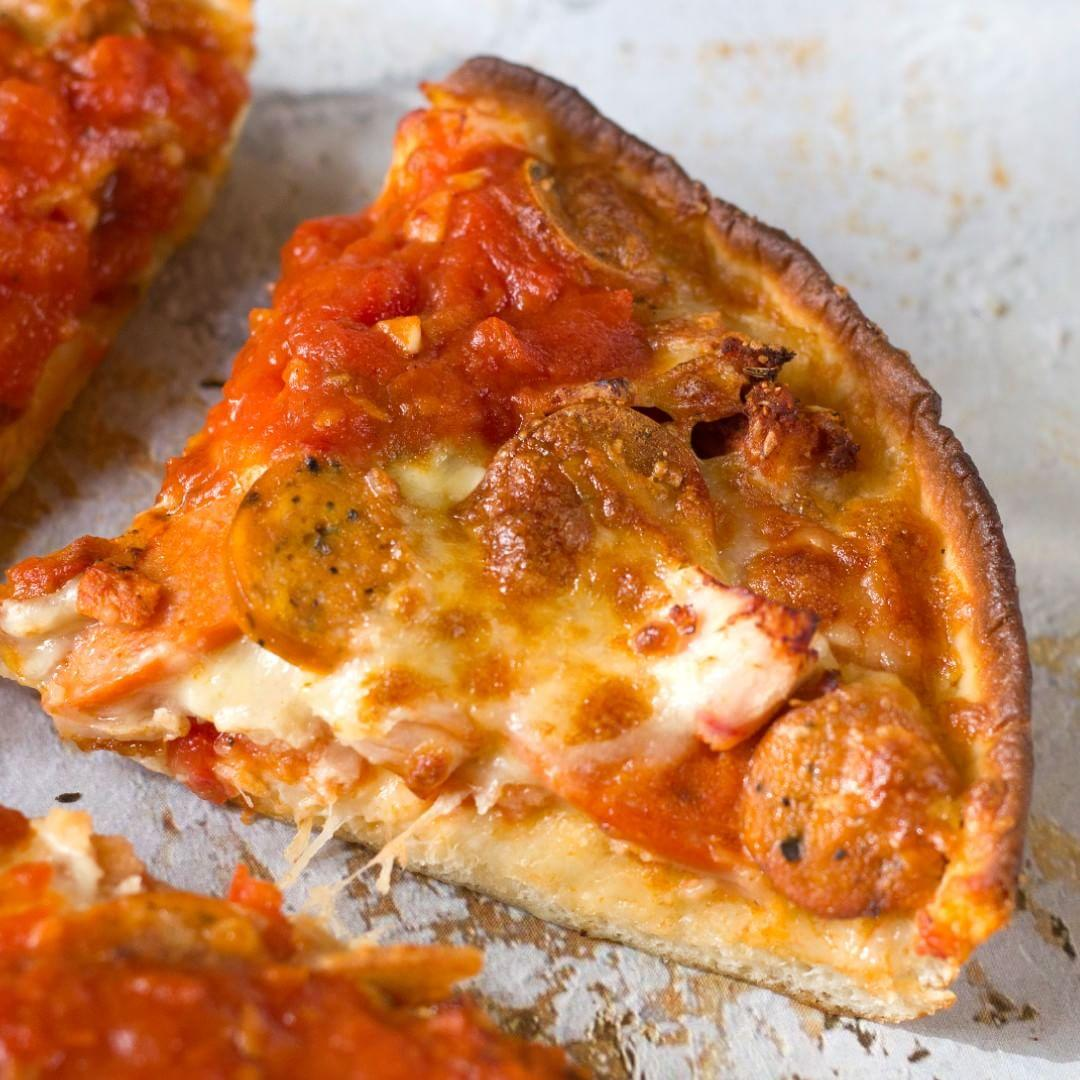Pizza: (0, 0, 1040, 1080)
Tomatoes: (431, 204, 642, 380), (235, 461, 399, 659)
